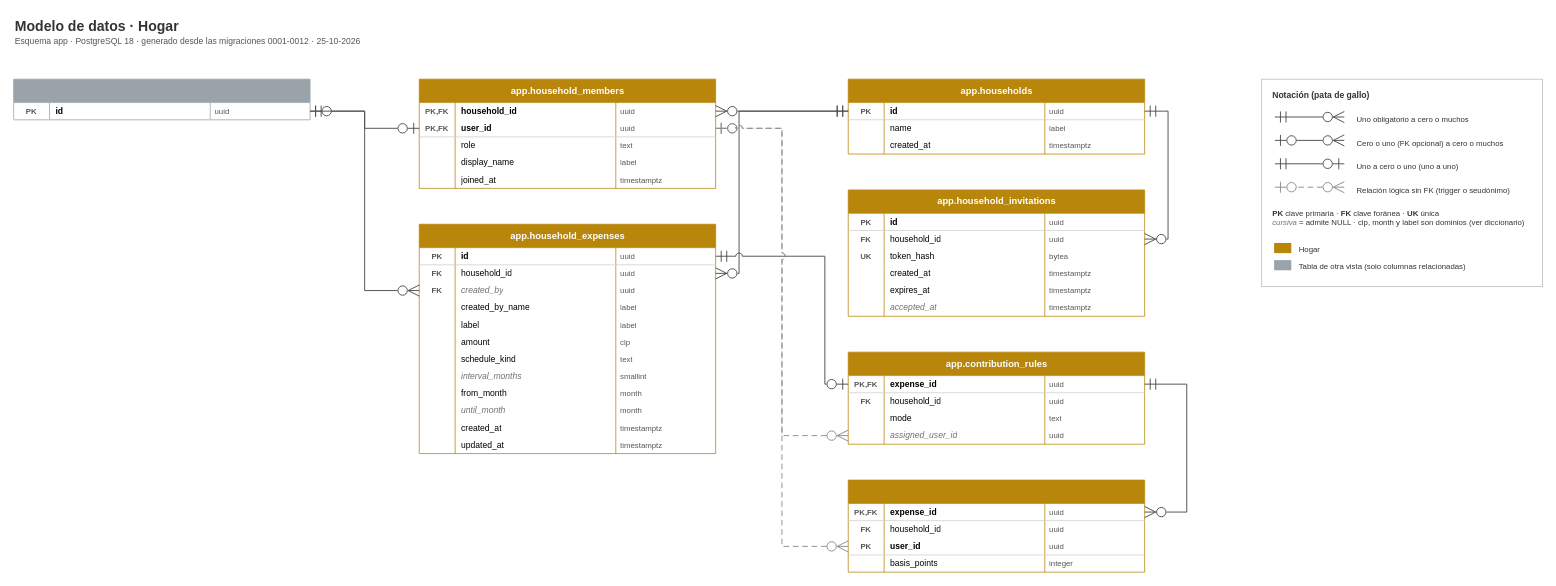
Some shapes in this 1556 by 586 pixel diagram are drawn without their labels. Each missing label, with the box of its shape:
app.contribution_shares: (847, 479, 1145, 572)
app.users (Identidad y administración): (13, 78, 310, 120)
